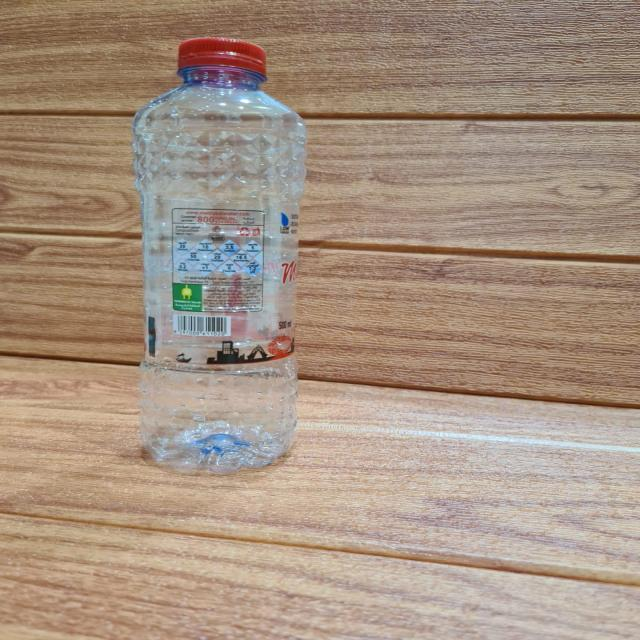bottle: (122, 39, 320, 471)
